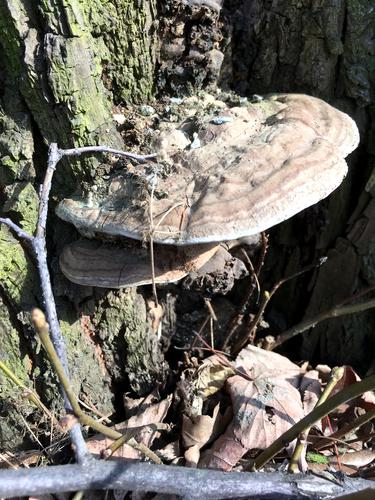Ganoderma - Fruit Body: (59, 86, 361, 240), (61, 240, 251, 289)
